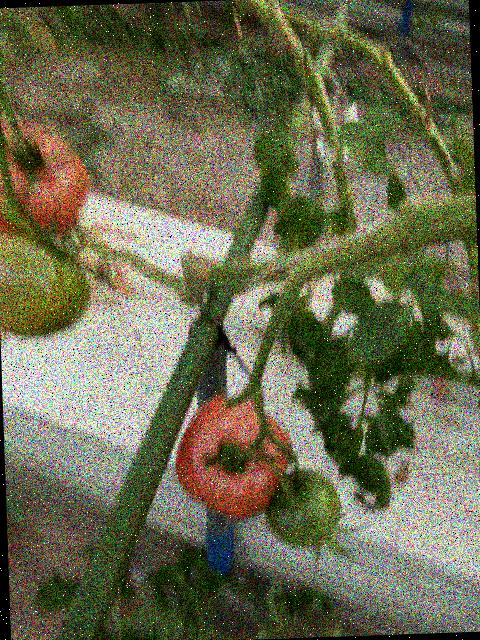b_fully_ripened: (171, 395, 294, 522)
b_green: (0, 231, 93, 337), (263, 469, 342, 549)
b_half_ripened: (0, 114, 92, 239)
